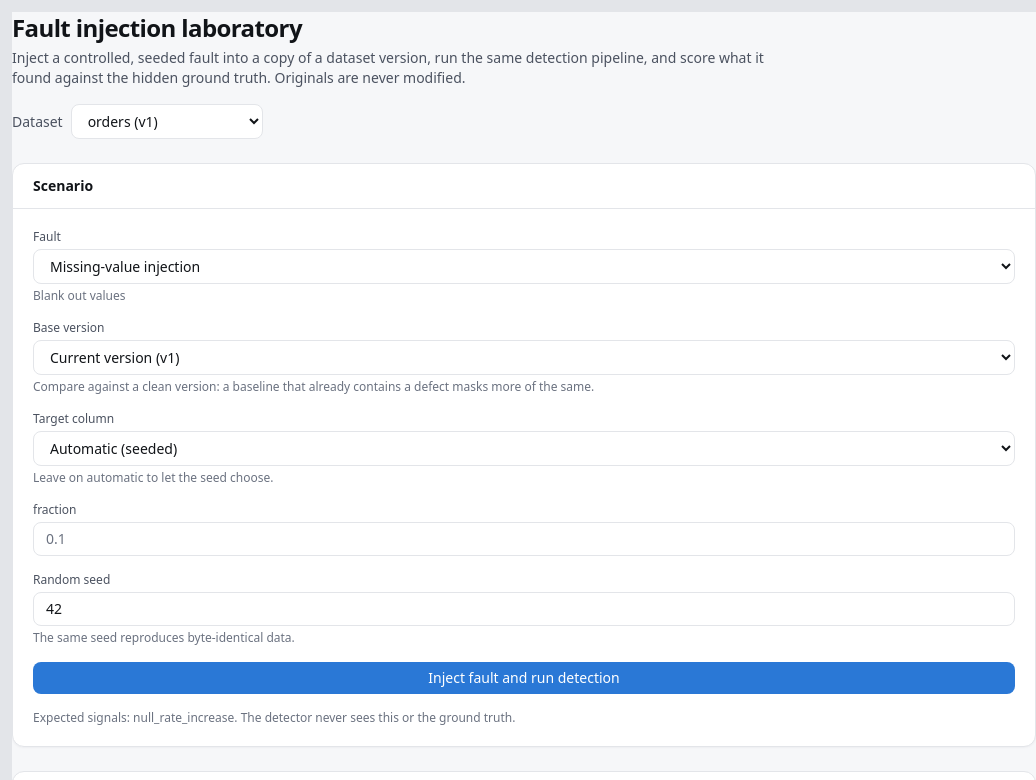
LabPage › warns about faults that need declared constraints
Select "Referential integrity violation" in the dropdown labelled "Fault": (524, 266) x1=33 y1=249 x2=1015 y2=284
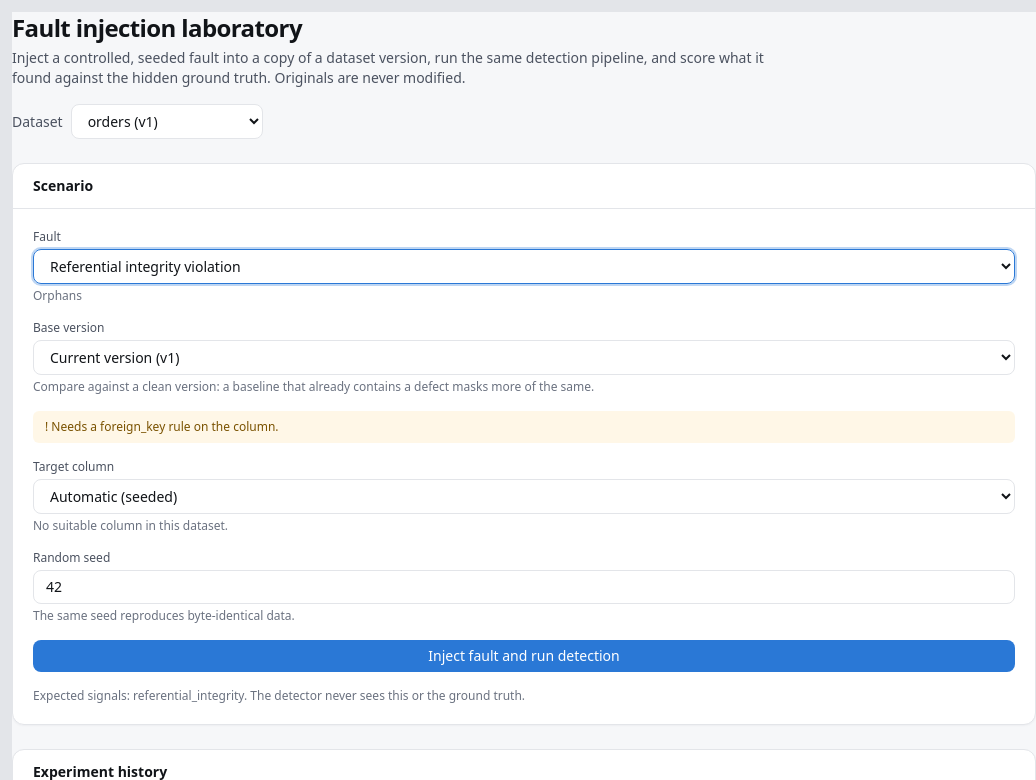
Check: the text "! Needs a foreign_key rule on the column." is shown, box x1=33 y1=411 x2=1015 y2=443
Check: the text "No suitable column in this dataset." is shown, box x1=33 y1=517 x2=228 y2=534
